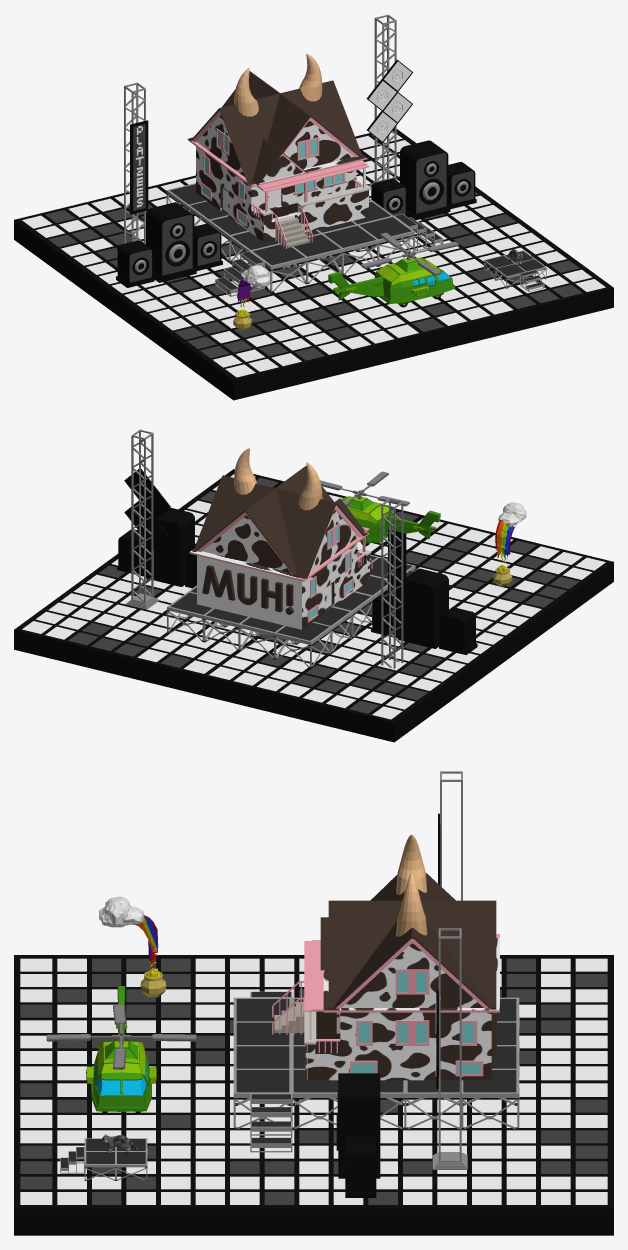
3 views of the same model, one above another, from view 1: azimuth 30°, elevation 25°; view 2: azimuth 150°, elevation 25°; view 3: azimuth 270°, elevation 25° (orthographic). The views are drawn at different scales.
Parts seen in each view (by area): view 1: Cube.008, Cube.1242, VEHICLES_HELICOPTER, OBJRANDOM_RAINBOW; view 2: Cube.008, Cube.1242, VEHICLES_HELICOPTER, OBJRANDOM_RAINBOW; view 3: Cube.008, Cube.1242, VEHICLES_HELICOPTER, OBJRANDOM_RAINBOW.
Part boxes in pixels (<box>): Cube.008: <box>14,14,613,400</box>; Cube.1242: <box>187,54,371,248</box>; VEHICLES_HELICOPTER: <box>328,232,459,307</box>; OBJRANDOM_RAINBOW: <box>233,265,270,330</box>; Cube.008: <box>14,429,613,742</box>; Cube.1242: <box>189,448,372,629</box>; VEHICLES_HELICOPTER: <box>320,471,440,546</box>; OBJRANDOM_RAINBOW: <box>493,502,526,586</box>; Cube.008: <box>14,771,613,1235</box>; Cube.1242: <box>272,834,499,1080</box>; VEHICLES_HELICOPTER: <box>46,986,196,1112</box>; OBJRANDOM_RAINBOW: <box>99,896,166,997</box>.
Size of the model in its own units: 4000 by 2124 by 4000.
Materials: 45 (1 with a texture image).
